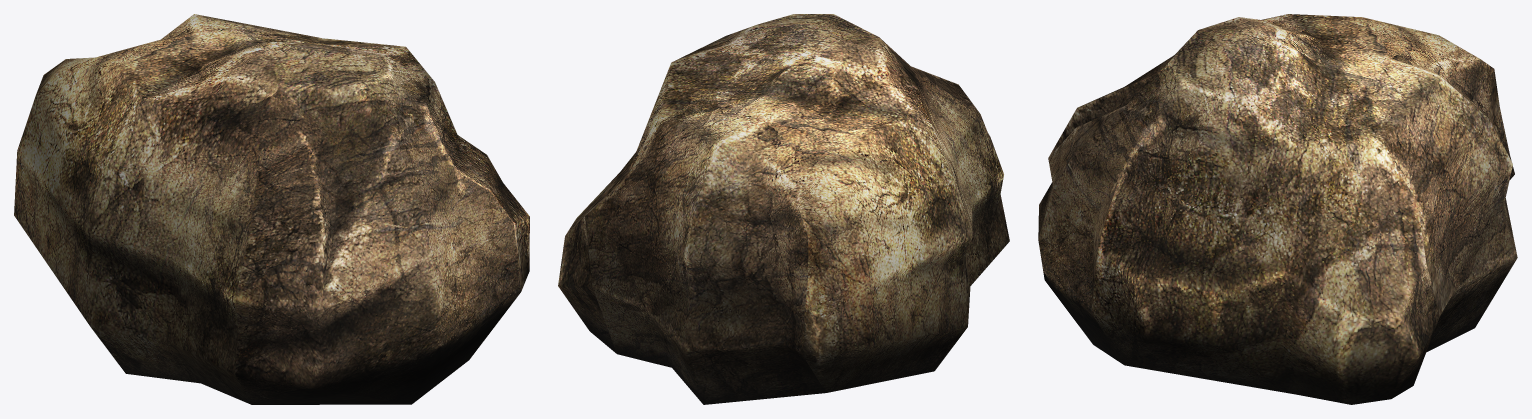
The model's file is rock_010.obj.
3 views of the same model, side by side, from view 1: azimuth 30°, elevation 25°; view 2: azimuth 150°, elevation 25°; view 3: azimuth 270°, elevation 25° (orthographic). The views are drawn at different scales.
Visible parts, largest first — view 1: rock_010; view 2: rock_010; view 3: rock_010.
Boxes of the visible parts, x1,y1,x2,y2 form: rock_010: (14, 14, 529, 404); rock_010: (558, 14, 1009, 404); rock_010: (1038, 14, 1517, 404).
Bounding box in the file's own units: 273 × 220 × 305.
Materials: 1 (1 with a texture image).
